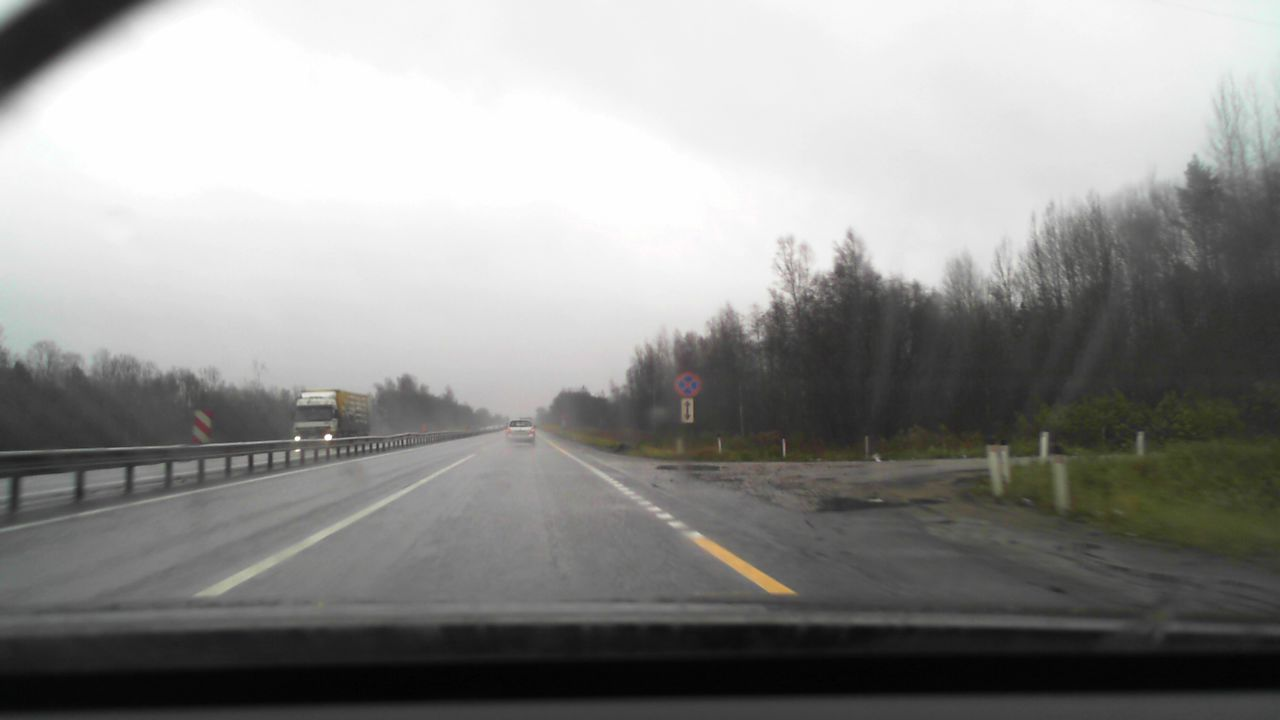No Parking: (673, 371, 701, 397)
